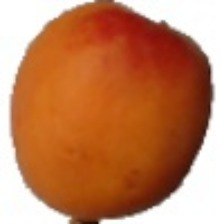apricot: (38, 24, 197, 194)
